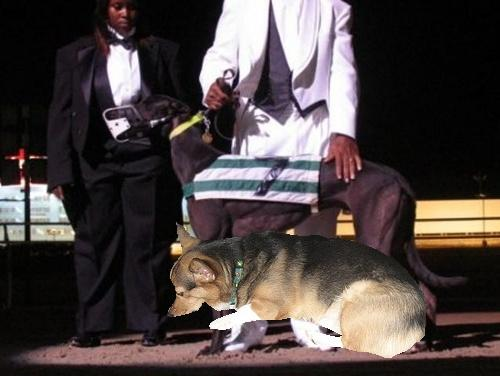tampered: (168, 223, 426, 358)
